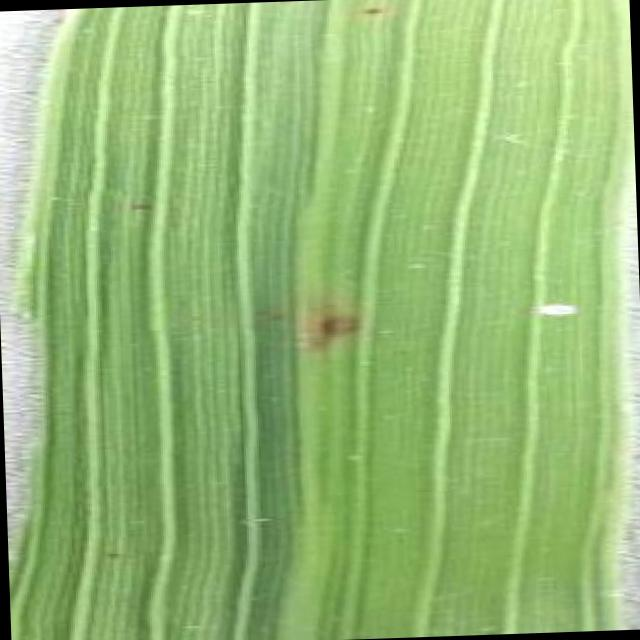Rice_Brownspot: (297, 298, 363, 350), (117, 187, 158, 216), (95, 540, 130, 565), (353, 0, 388, 19), (242, 296, 268, 318), (266, 306, 289, 326)
